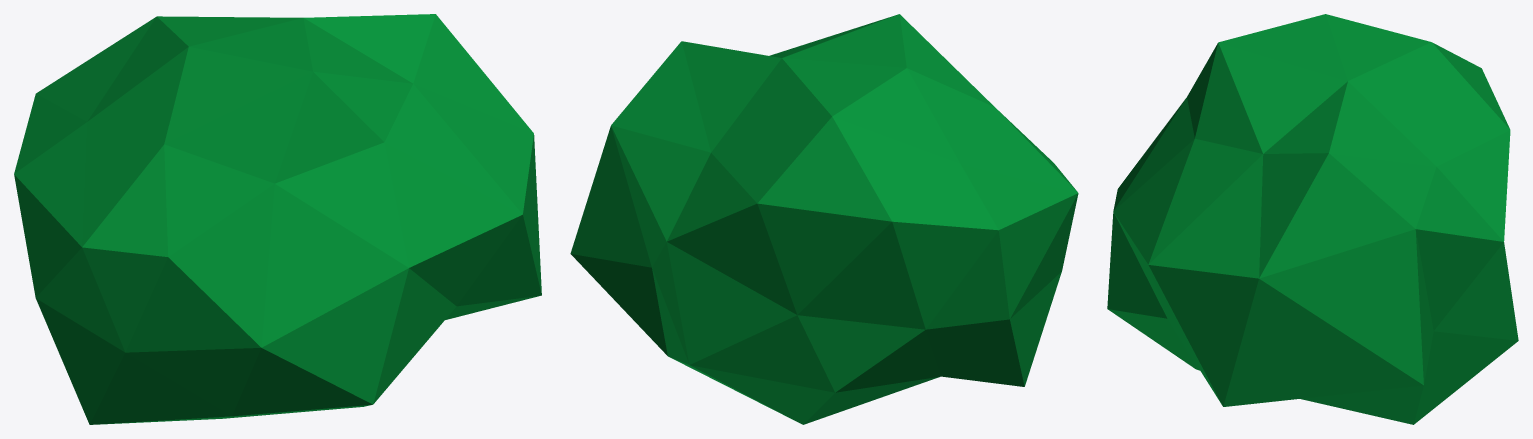
File: Bush2.fbx
The picture shows the model from 3 angles, left to right: view 1: azimuth 30°, elevation 25°; view 2: azimuth 150°, elevation 25°; view 3: azimuth 270°, elevation 25°; orthographic projection. The views are drawn at different scales.
Parts seen in each view (by area): view 1: bush2; view 2: bush2; view 3: bush2.
Boxes of the visible parts, bbox=[...] form: bush2: bbox=[14, 14, 541, 424]; bush2: bbox=[570, 14, 1078, 424]; bush2: bbox=[1107, 14, 1518, 424].
Size of the model in its own units: 3.89 by 3 by 3.2.
